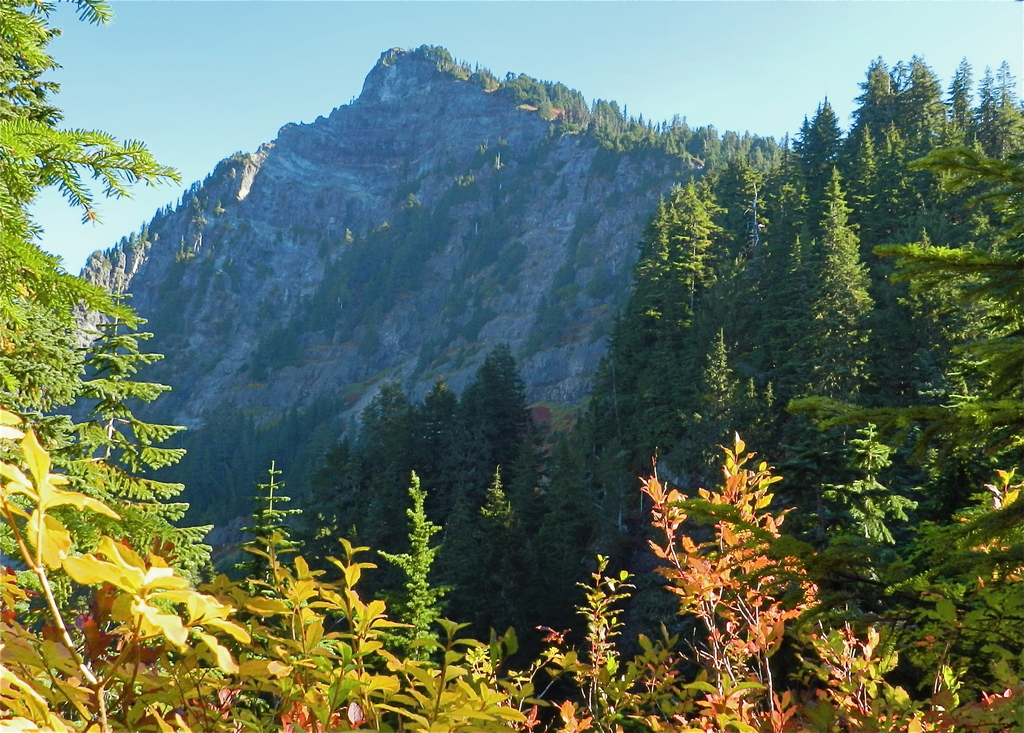Tree: (231, 53, 1023, 715), (10, 160, 234, 678)
